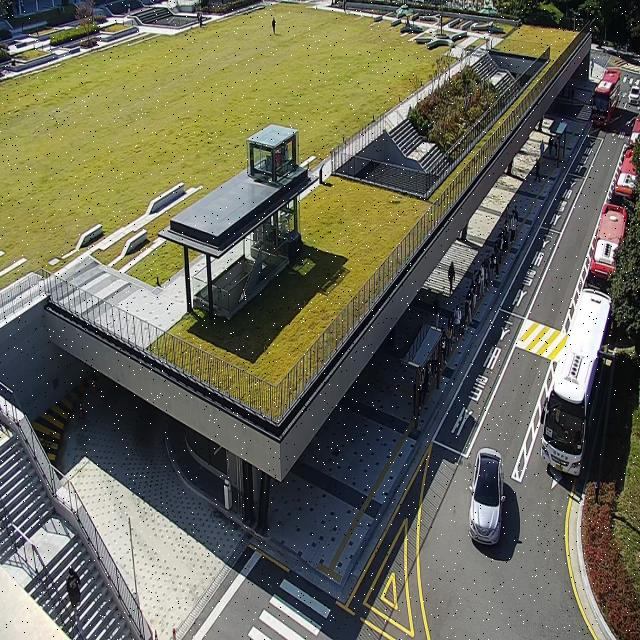queue: (416, 206, 518, 428)
